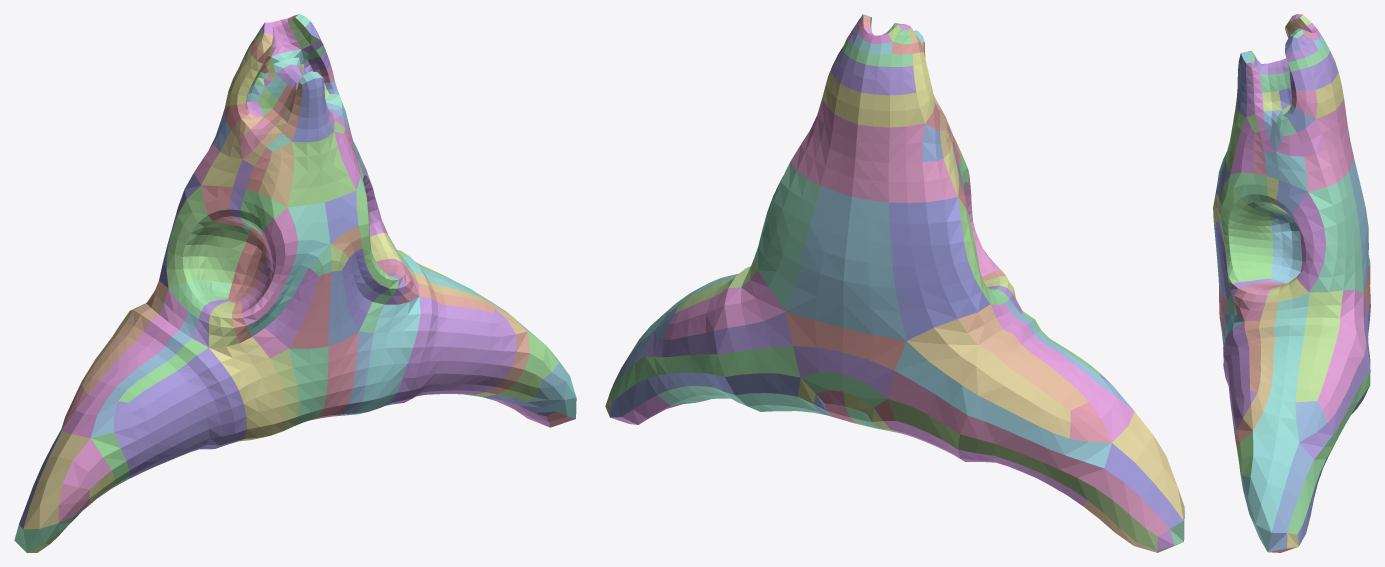
File: cowSkull_patch_color.obj
3 renders of one model, left to right at view 1: azimuth 30°, elevation 25°; view 2: azimuth 150°, elevation 25°; view 3: azimuth 270°, elevation 25°, orthographic. The views are drawn at different scales.
Bounding box in the file's own units: 4.39 × 3.52 × 1.21.
